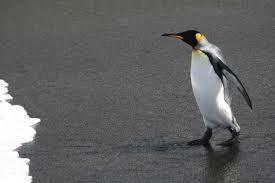king: (155, 24, 260, 149)
